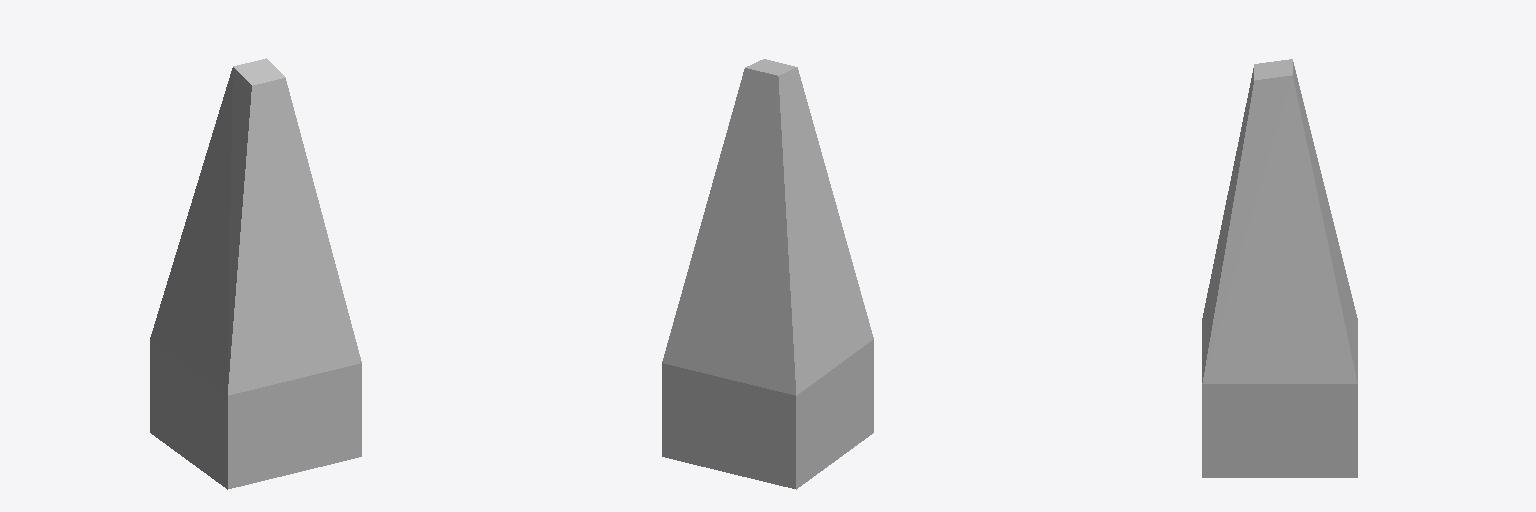
Rendered from wide_wooden_spike_small.obj.
3 renders of one model, left to right at view 1: azimuth 30°, elevation 25°; view 2: azimuth 150°, elevation 25°; view 3: azimuth 270°, elevation 25°, orthographic.
Visible parts, largest first — view 1: cuboid; view 2: cuboid; view 3: cuboid.
Boxes of the visible parts, box(x1,y1,x2,y2) form: cuboid: box(150, 58, 361, 489); cuboid: box(662, 59, 873, 489); cuboid: box(1202, 59, 1357, 477).
Size of the model in its own units: 0.375 by 1.01 by 0.375.